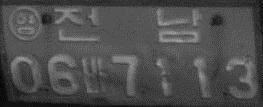0: (8, 55, 41, 95)
1: (186, 55, 218, 99), (150, 55, 179, 97)
3: (224, 56, 258, 100)
6: (46, 54, 79, 96)
7: (110, 54, 139, 97)
바: (81, 55, 108, 96)
영: (7, 6, 42, 42)
전남_D: (53, 7, 203, 44)
